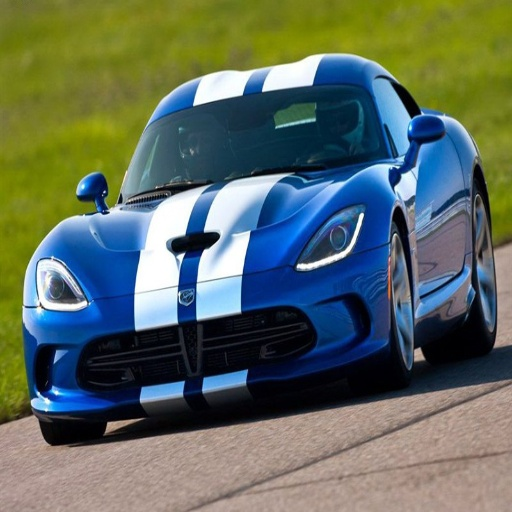back_glass: (229, 184, 294, 230)
front_bumper: (26, 252, 388, 415)
front_glass: (118, 58, 407, 203)
front_left_door: (408, 111, 452, 302)
front_right_light: (32, 260, 82, 309)
trunk: (84, 264, 127, 299)
